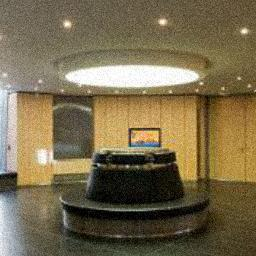Puerta: (210, 95, 256, 183)
